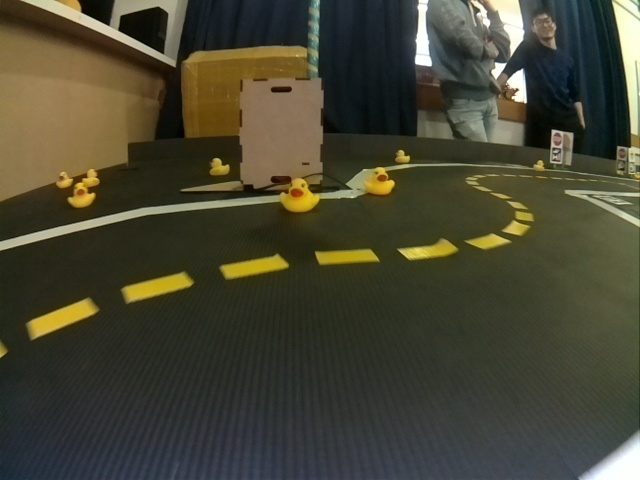Duckie: (280, 180, 317, 211), (364, 168, 395, 194), (69, 183, 96, 208), (209, 158, 229, 176), (83, 168, 98, 186), (57, 173, 71, 188), (396, 149, 411, 163), (534, 159, 544, 169)
QR code: (551, 148, 561, 162)
Stop sign: (552, 132, 562, 146), (618, 147, 627, 158)
